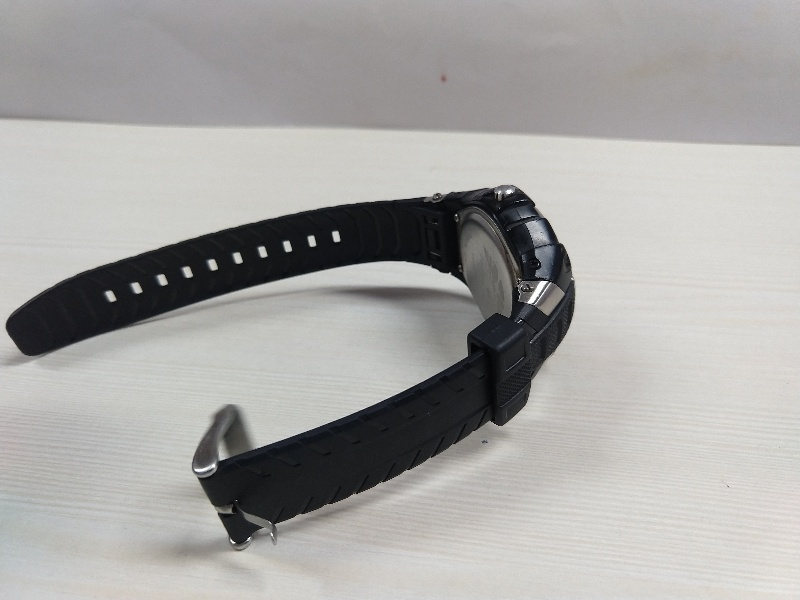watch: (1, 179, 584, 553)
